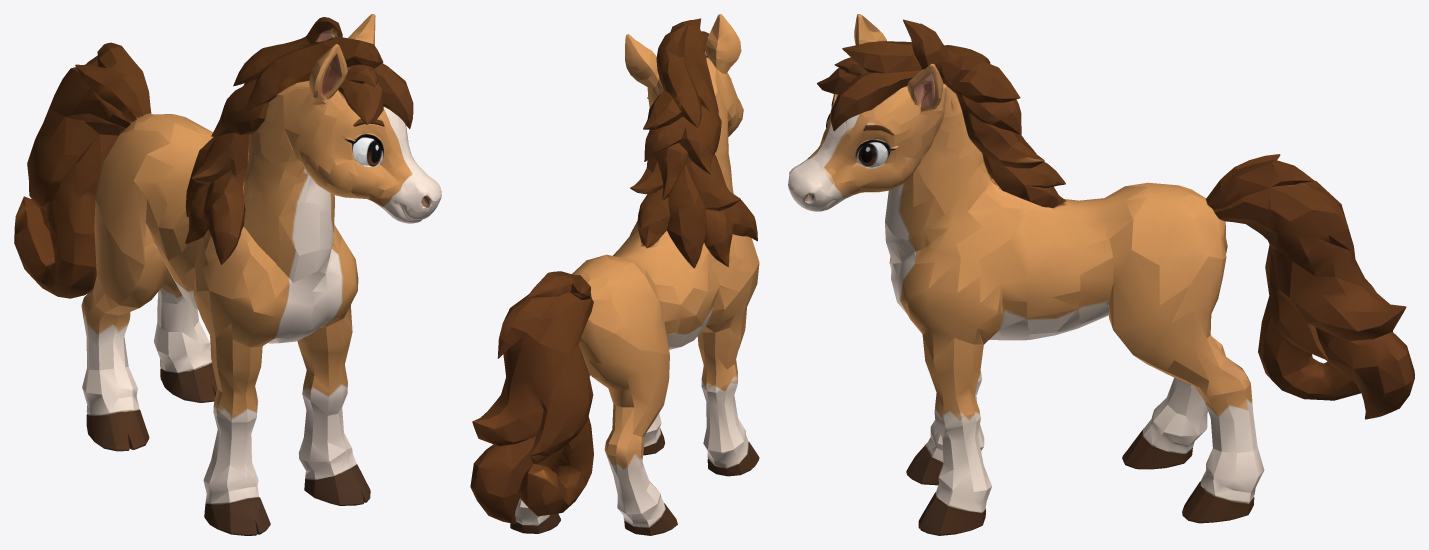
Rendered from Ngua.glb.
3 renders of one model, left to right at view 1: azimuth 30°, elevation 25°; view 2: azimuth 150°, elevation 25°; view 3: azimuth 270°, elevation 25°, orthographic. The views are drawn at different scales.
Visible parts, largest first — view 1: output_unwrapped; view 2: output_unwrapped; view 3: output_unwrapped.
Part boxes in pixels (x1,y1,x2,y2): output_unwrapped: (14,14,441,535); output_unwrapped: (470,14,759,535); output_unwrapped: (788,14,1414,535).
Bounding box in the file's own units: 0.5902 × 1.64 × 1.9.
Materials: 1 (1 with a texture image).
